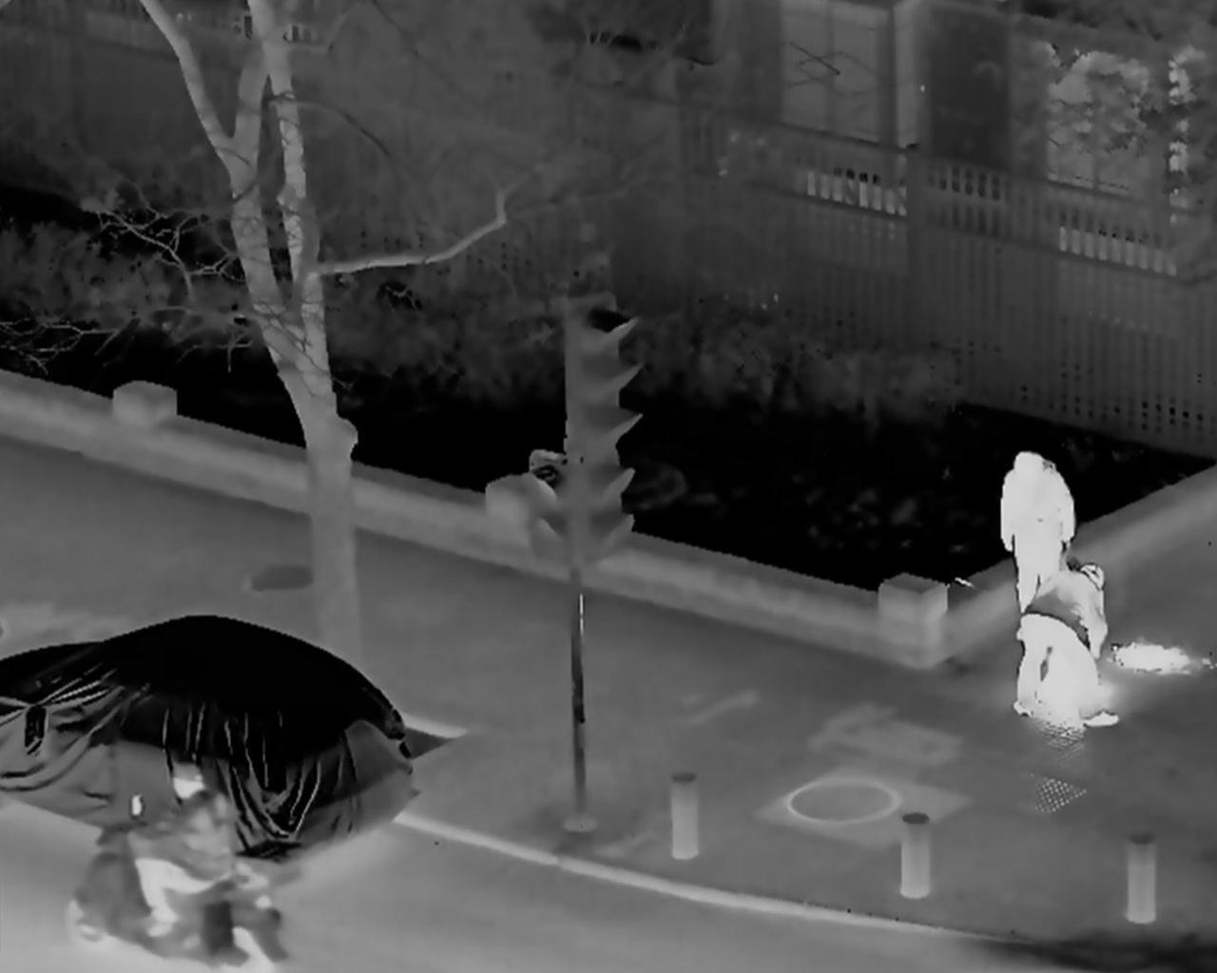person: (128, 764, 241, 935), (1010, 562, 1122, 731), (999, 452, 1080, 634)
